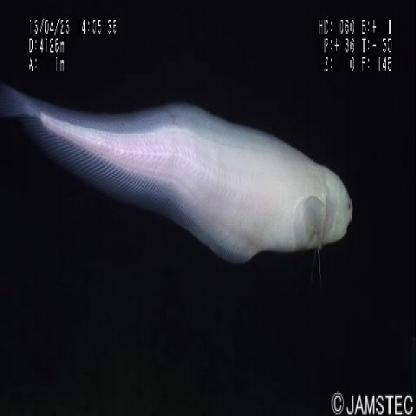Bio: (1, 80, 353, 267)
